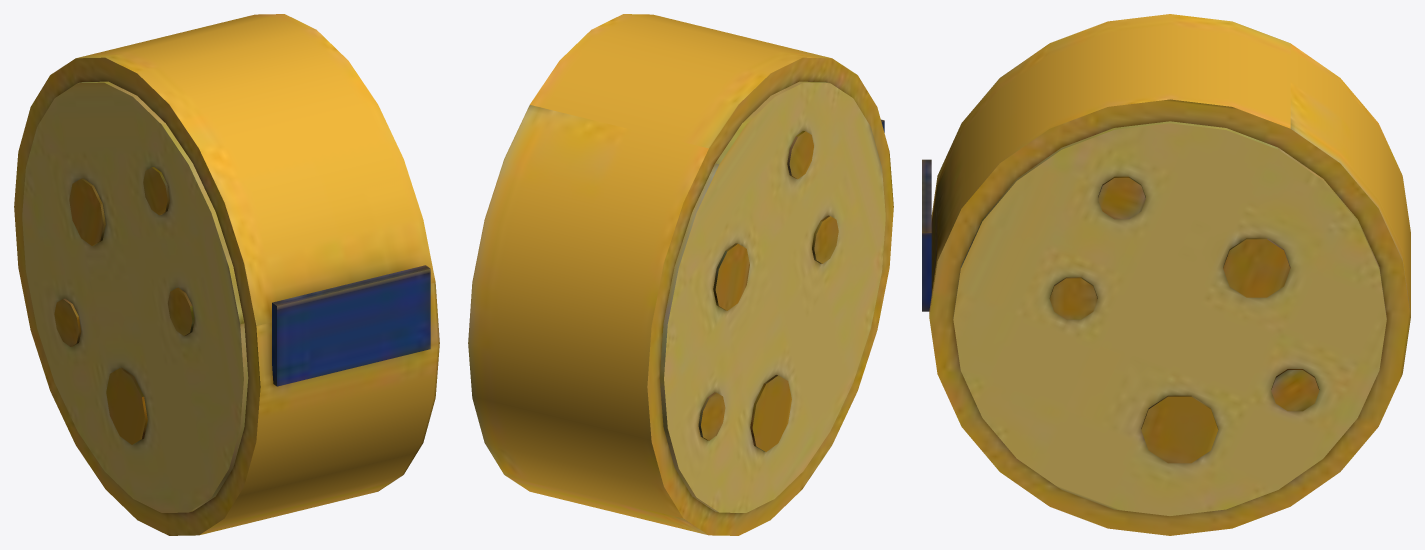
Rendered from rueda_queso.glb.
3 renders of one model, left to right at view 1: azimuth 30°, elevation 25°; view 2: azimuth 150°, elevation 25°; view 3: azimuth 270°, elevation 25°, orthographic. The views are drawn at different scales.
Visible parts, largest first — view 1: rueda_queso; view 2: rueda_queso; view 3: rueda_queso.
Boxes of the visible parts, x1,y1,x2,y2 form: rueda_queso: (14, 14, 439, 535); rueda_queso: (468, 14, 893, 535); rueda_queso: (922, 14, 1410, 535).
Size of the model in its own units: 0.4506 by 1 by 1.01.
1 material, 1 textured.
